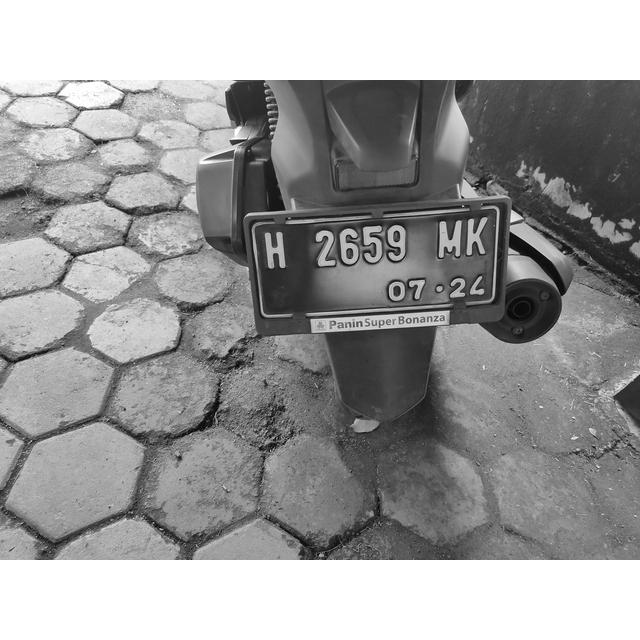license: (262, 213, 494, 304)
